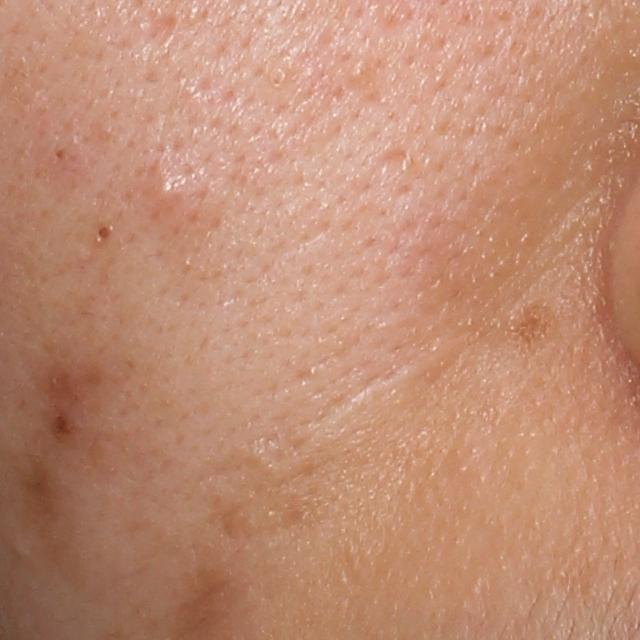atrophic_scar: (9, 454, 51, 519), (133, 10, 181, 48), (369, 143, 407, 178)
comedo: (91, 221, 117, 243)
